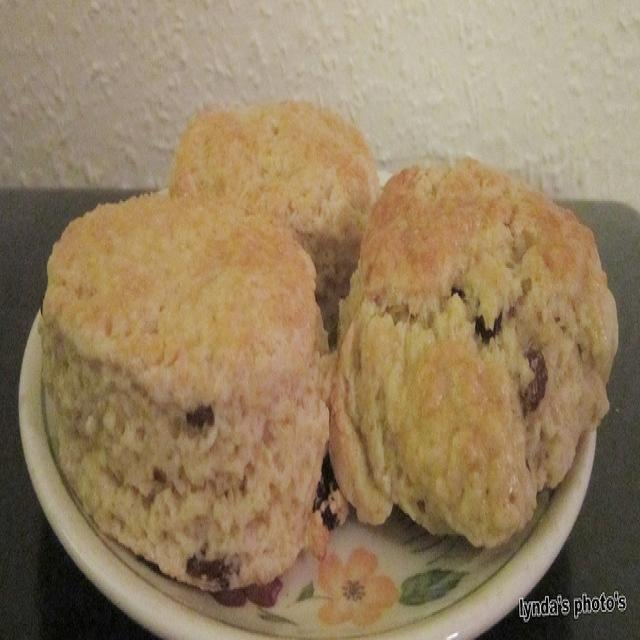面包点心: (30, 66, 612, 600)
